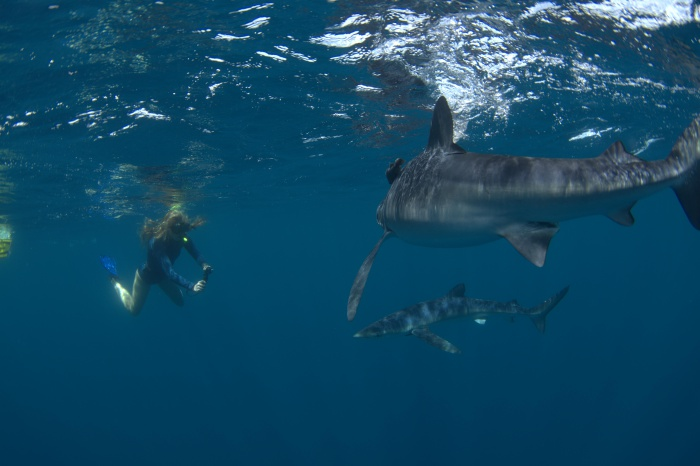Azul: (290, 86, 700, 325), (373, 84, 690, 240)
